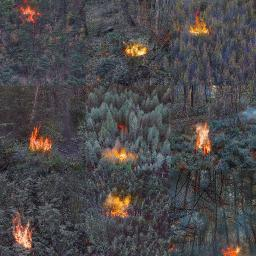Small fire: (11, 217, 38, 253), (104, 190, 134, 219), (190, 123, 214, 156), (100, 140, 134, 162), (26, 127, 51, 155), (124, 37, 150, 62), (187, 12, 210, 40), (18, 4, 41, 28), (218, 242, 245, 256)
